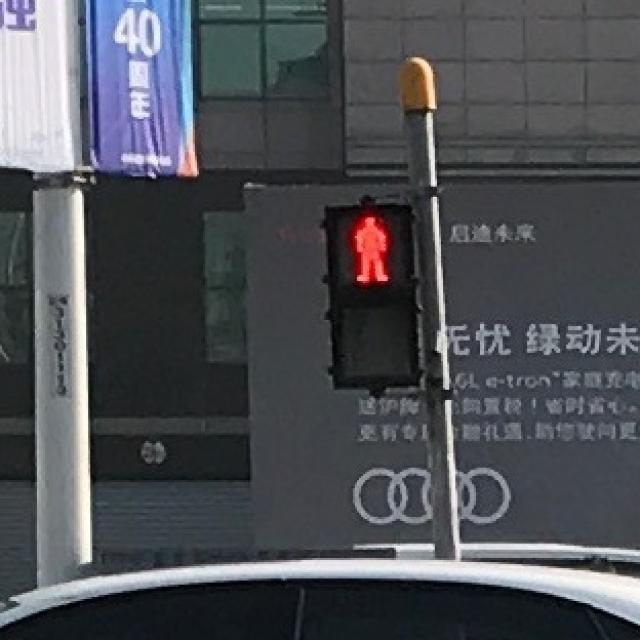red-crossing: (326, 203, 410, 285)
